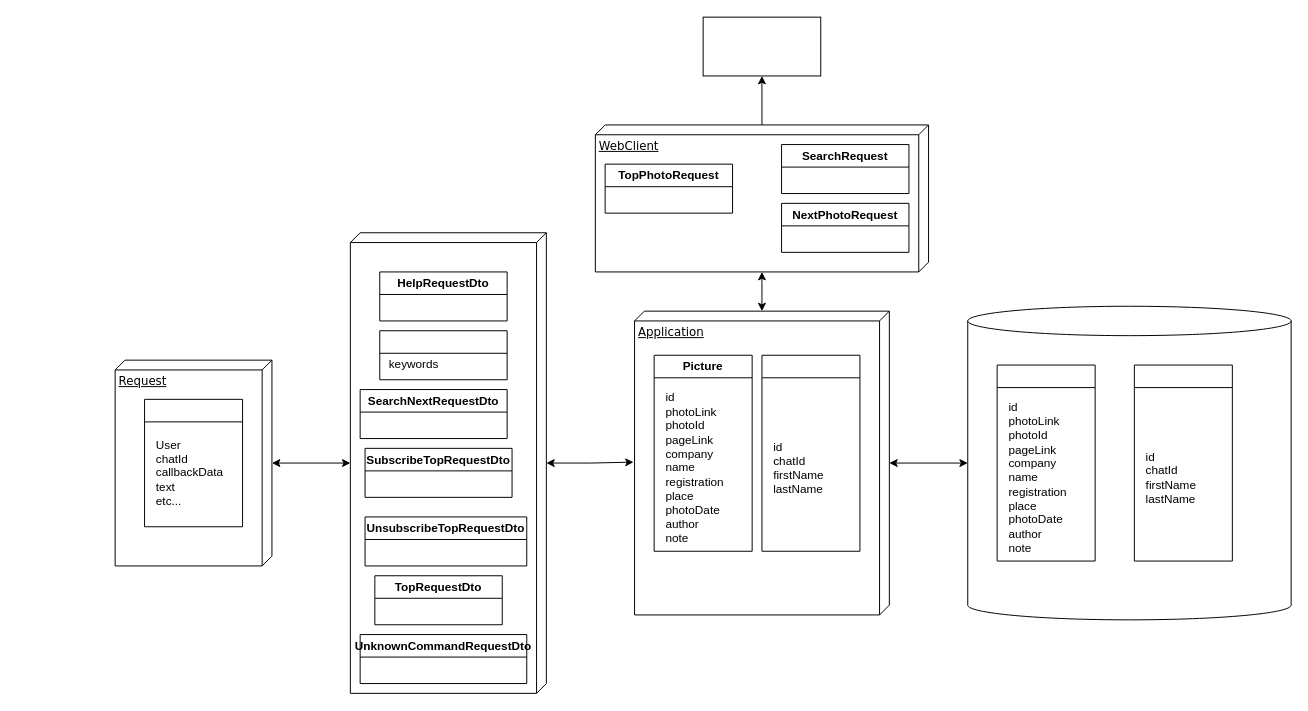
This 1308x711 diagram has some shape labels left out. The shapes that lost their labels are listed below. From the top down, each one's box as (x1, y1, x2, y2) in pixels, then its label:
(702, 16, 821, 76): https://airliners.net
(379, 330, 507, 380): SearchRequestDto
(144, 398, 243, 527): Update
(349, 232, 546, 693): RequestResolver
(761, 354, 860, 551): User
(996, 364, 1095, 561): PictureEntity
(1133, 364, 1232, 561): UserEntity
